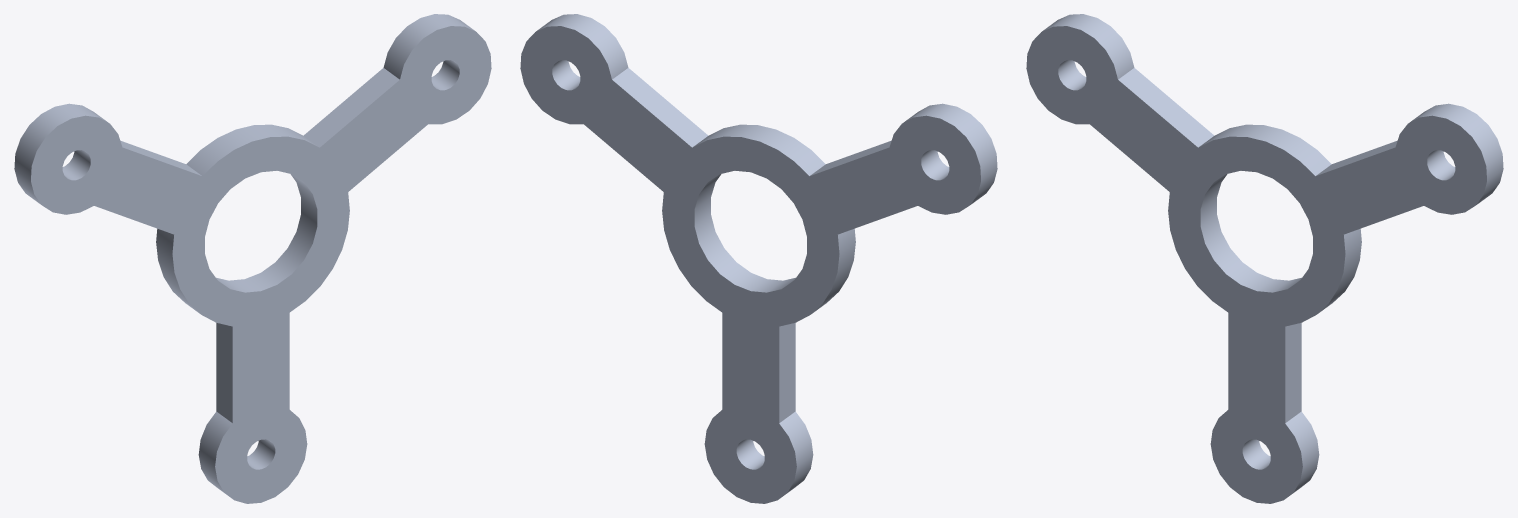
File: 齿轮盖板.FBX
3 renders of one model, left to right at view 1: azimuth 30°, elevation 25°; view 2: azimuth 150°, elevation 25°; view 3: azimuth 330°, elevation 25°, orthographic.
Parts seen in each view (by area): view 1: 凸台-拉伸2; view 2: 凸台-拉伸2; view 3: 凸台-拉伸2.
Part boxes in pixels (<box>): 凸台-拉伸2: <box>14,14,491,503</box>; 凸台-拉伸2: <box>520,14,997,503</box>; 凸台-拉伸2: <box>1026,14,1503,503</box>.
Size of the model in its own units: 6.49 by 5.8 by 0.4.
